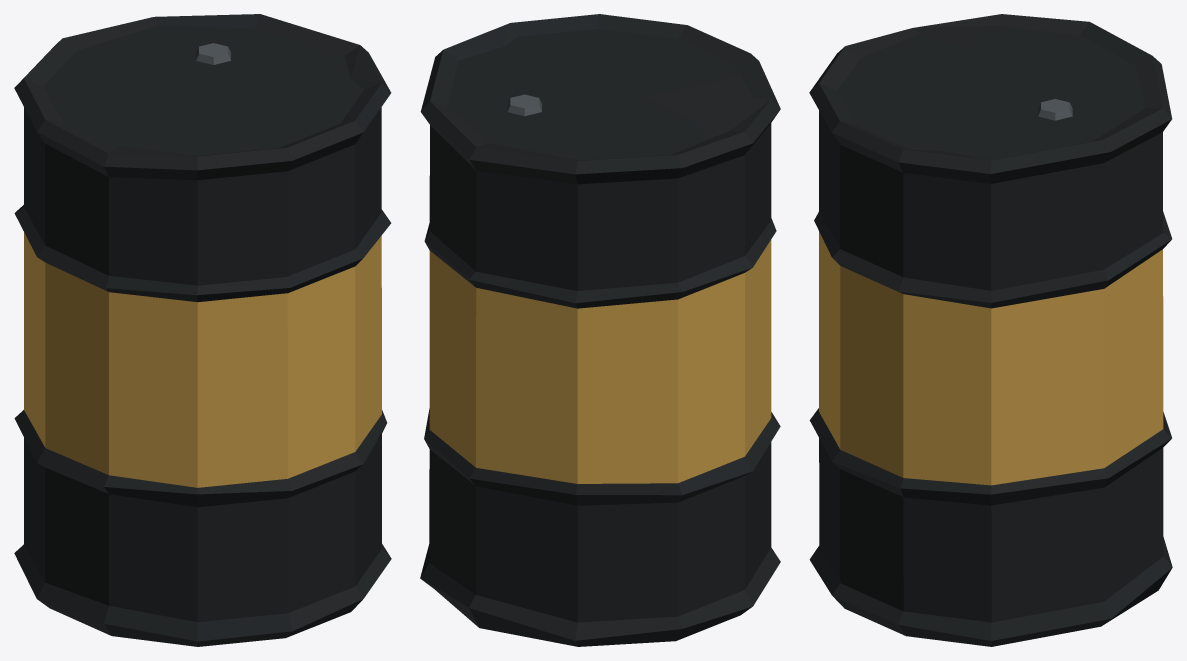
File: SM_Prop_Barrel_Metal_01.obj
The picture shows the model from 3 angles, left to right: view 1: azimuth 30°, elevation 25°; view 2: azimuth 150°, elevation 25°; view 3: azimuth 270°, elevation 25°; orthographic projection.
Visible parts, largest first — view 1: SM_Prop_Barrel_Metal_01_0; view 2: SM_Prop_Barrel_Metal_01_0; view 3: SM_Prop_Barrel_Metal_01_0.
Boxes of the visible parts, x1=… form: SM_Prop_Barrel_Metal_01_0: x1=14, y1=14, x2=391, y2=646; SM_Prop_Barrel_Metal_01_0: x1=420, y1=14, x2=780, y2=646; SM_Prop_Barrel_Metal_01_0: x1=809, y1=14, x2=1172, y2=646.
Bounding box in the file's own units: 0.7261 × 1.05 × 0.7052.
Materials: 1 (1 with a texture image).
